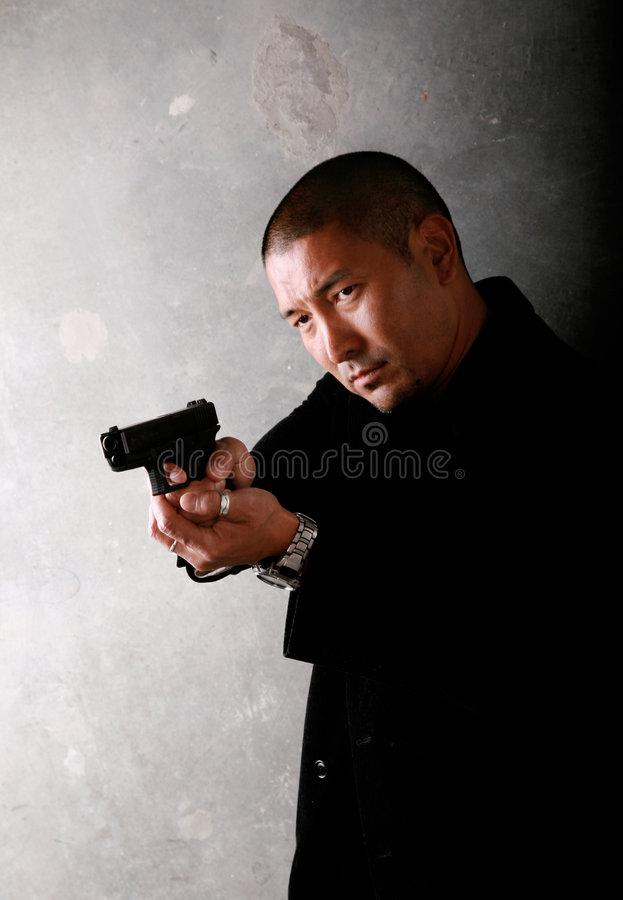criminal: (94, 146, 623, 900)
weapon: (94, 390, 232, 529)
